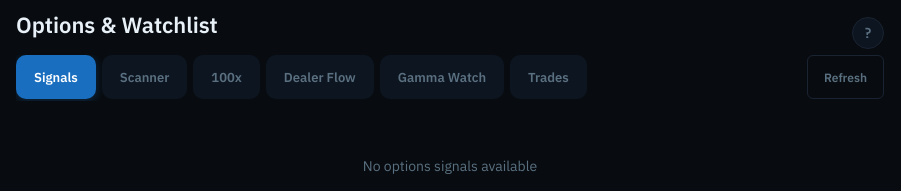
Scenario: Gamma Watch finite whole-request lifecycle with the real API client › reaches the actual Gamma Watch through the default Options route and bounds its pending request
The width and height of the screenshot is (901, 191).
Click the button "Gamma Watch" at (442, 77), box [380,55,504,99]
Wait 15000 ms
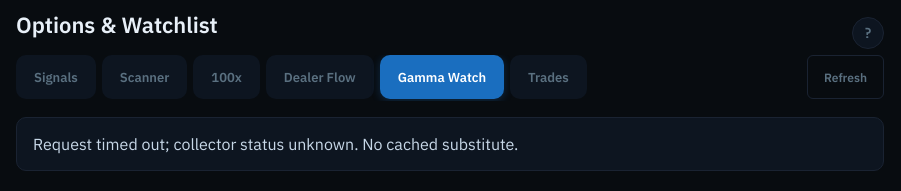
Result: the message shows "Request timed out; collector status unknown" at [33,134,518,154]
